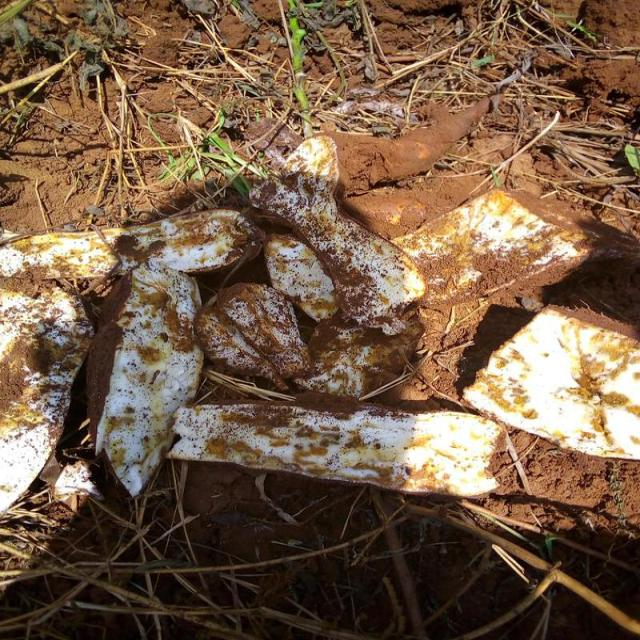cassava leaf: (0, 130, 638, 517), (166, 393, 507, 498), (462, 303, 639, 460)
